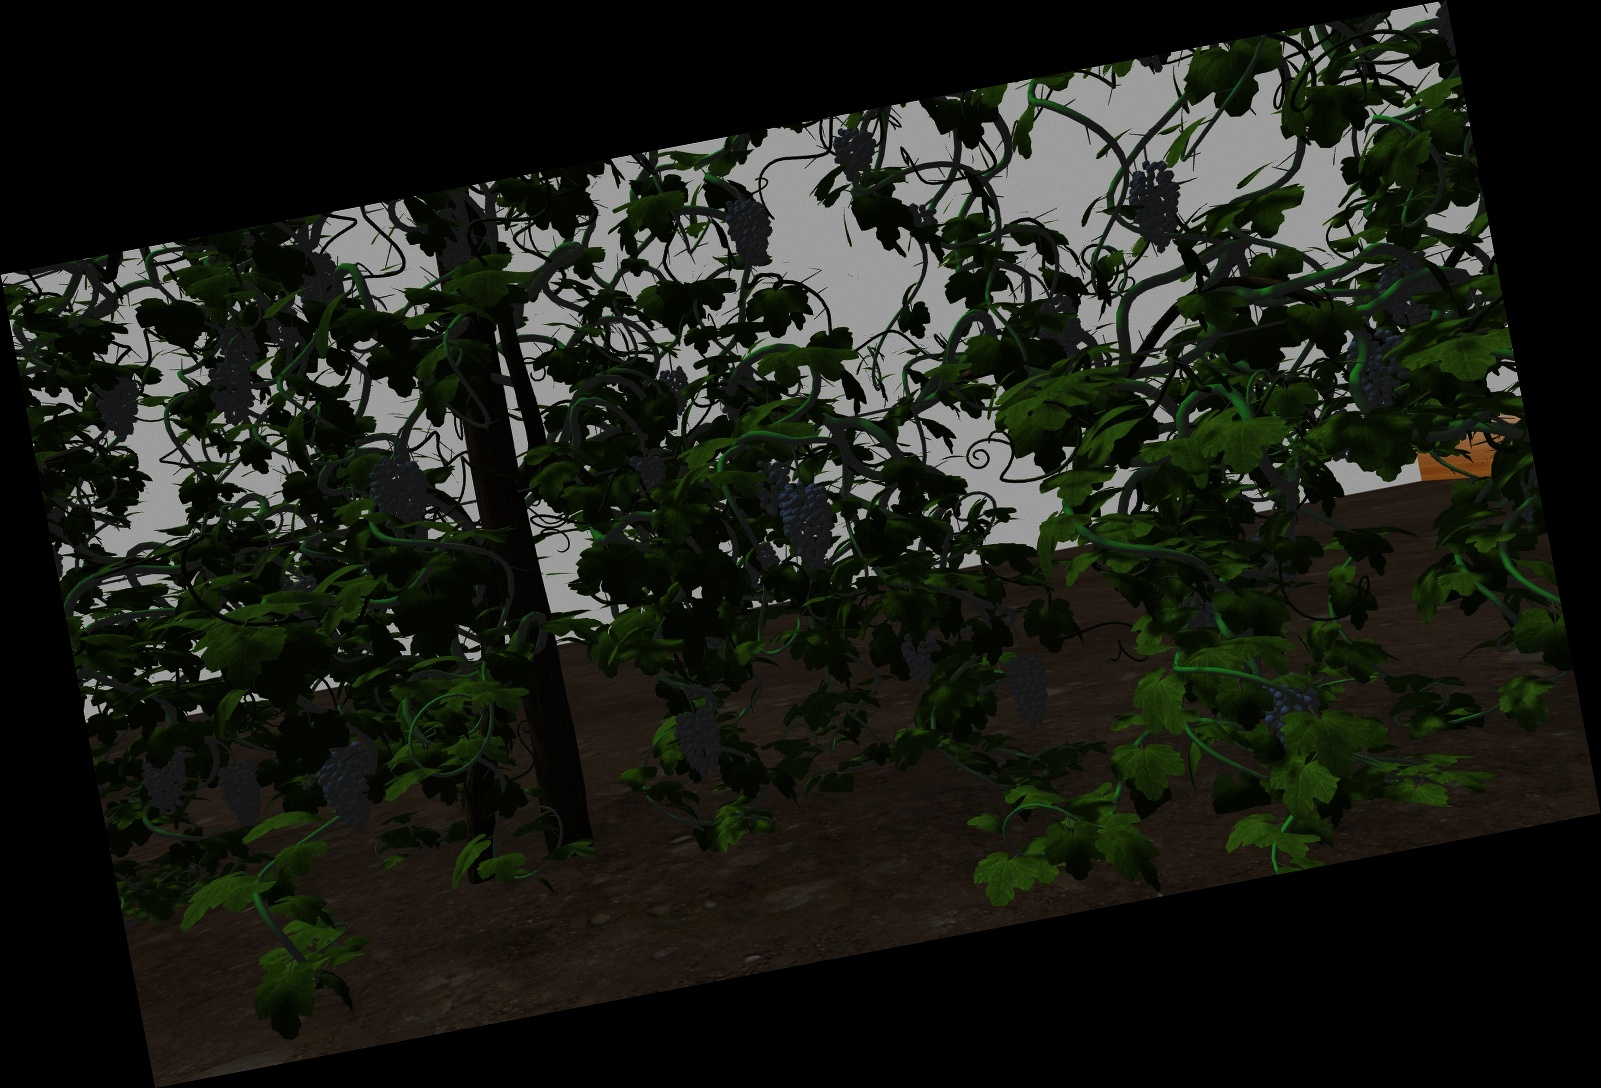grape: (1341, 330, 1410, 410), (1126, 159, 1185, 253), (777, 484, 838, 573), (318, 744, 373, 835), (370, 458, 432, 532), (1265, 678, 1319, 753), (674, 701, 725, 780), (89, 368, 141, 444), (141, 746, 191, 823), (725, 194, 774, 268), (1006, 653, 1050, 731), (902, 627, 946, 691), (211, 363, 254, 429), (220, 763, 261, 828), (831, 127, 878, 178), (753, 460, 790, 515), (218, 324, 259, 369), (629, 448, 668, 488), (663, 365, 692, 416)
